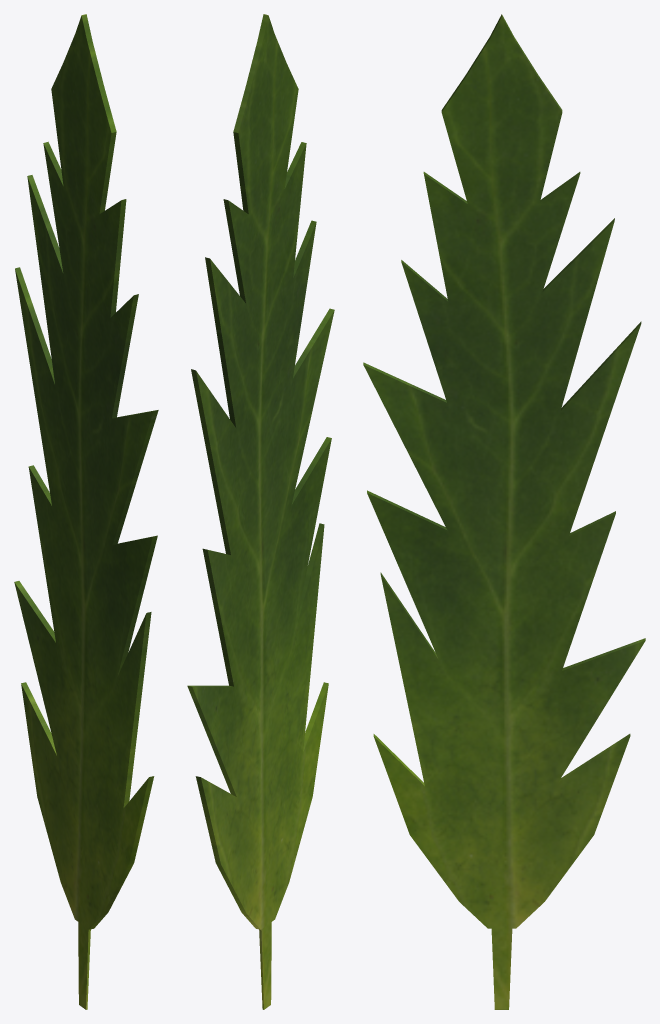
Rendered from Leaf3Complete.fbx.
The picture shows the model from 3 angles, left to right: view 1: azimuth 30°, elevation 25°; view 2: azimuth 150°, elevation 25°; view 3: azimuth 270°, elevation 25°; orthographic projection.
Parts seen in each view (by area): view 1: leaf3Complete; view 2: leaf3Complete; view 3: leaf3Complete.
Part boxes in pixels (x1=…): leaf3Complete: x1=14, y1=14, x2=158, y2=1009; leaf3Complete: x1=187, y1=14, x2=334, y2=1009; leaf3Complete: x1=363, y1=14, x2=645, y2=1009.
Size of the model in its own units: 0.5305 by 52.4 by 13.49.
